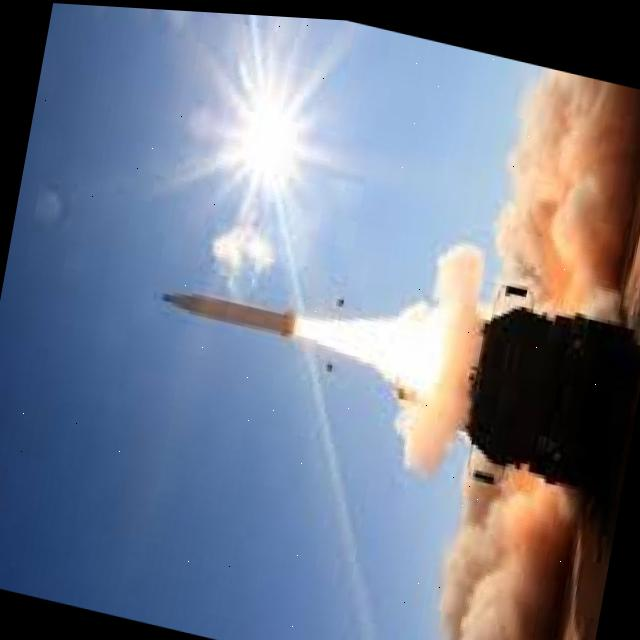missile: (152, 268, 298, 341)
